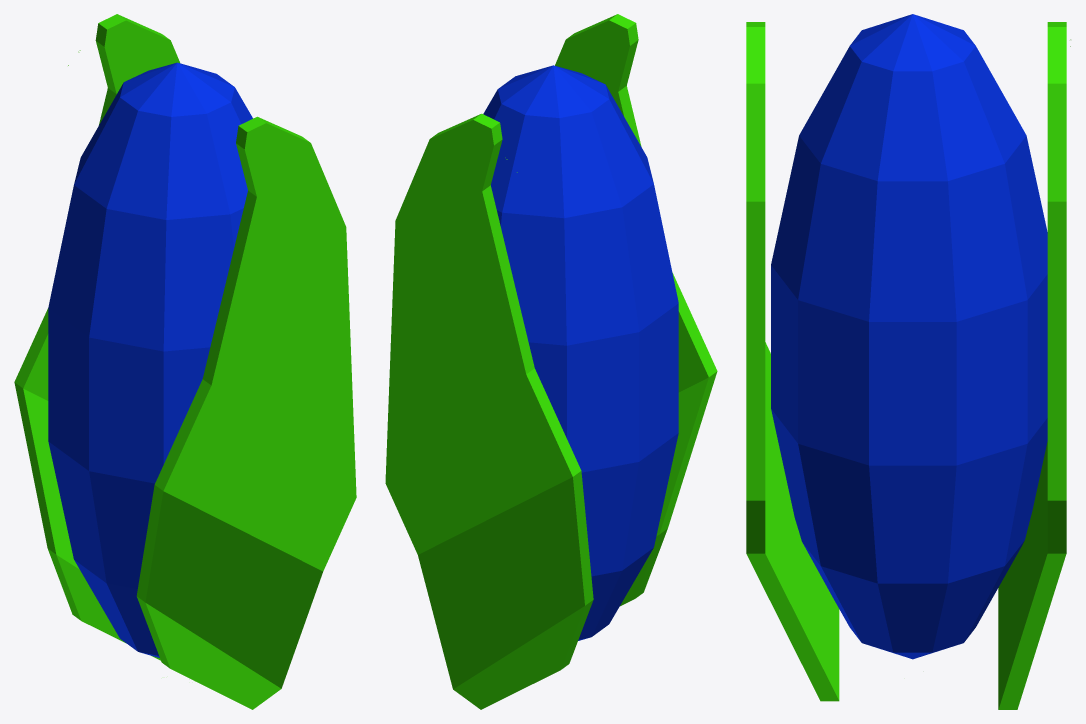
Rendered from maisblauw.fbx.
3 views of the same model, side by side, from view 1: azimuth 30°, elevation 25°; view 2: azimuth 150°, elevation 25°; view 3: azimuth 270°, elevation 25° (orthographic). The views are drawn at different scales.
Parts seen in each view (by area): view 1: Plane; view 2: Plane; view 3: Plane.
Boxes of the visible parts, x1,y1,x2,y2 form: Plane: [14, 14, 356, 709]; Plane: [385, 14, 717, 709]; Plane: [746, 14, 1070, 709].
Size of the model in its own units: 20.26 by 56.54 by 24.44.
